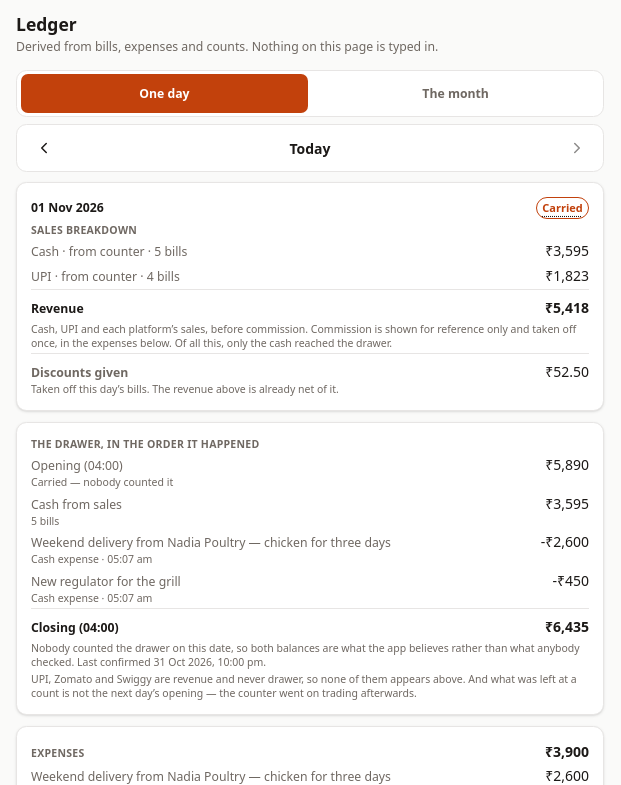
Test: a measured figure says when it was last confirmed › shows the freshness chip beside the channel’s source chip
Expected: the element with test id "ledger-revenue" is shown, [16,182,604,411]
Click the button with test id "statement-step-back" at (44, 148), box [20,129,66,167]
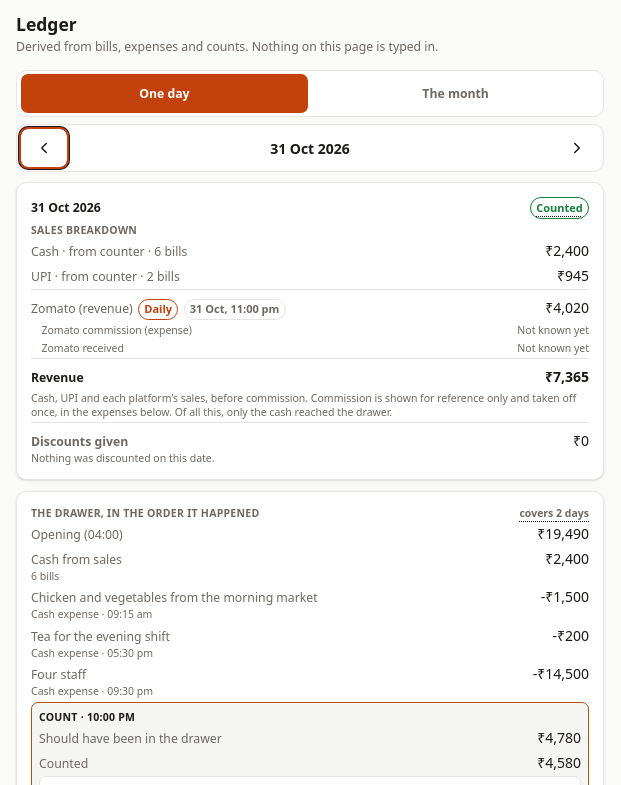
Expected: the text "₹4,020" is shown, [545,297,589,318]
Expected: the text "31 Oct, 11:00 pm" is shown, [184,298,286,320]
Expected: the text with test id "^channel-as-of-" reads "31 Oct, 11:00 pm", [190,301,279,316]
